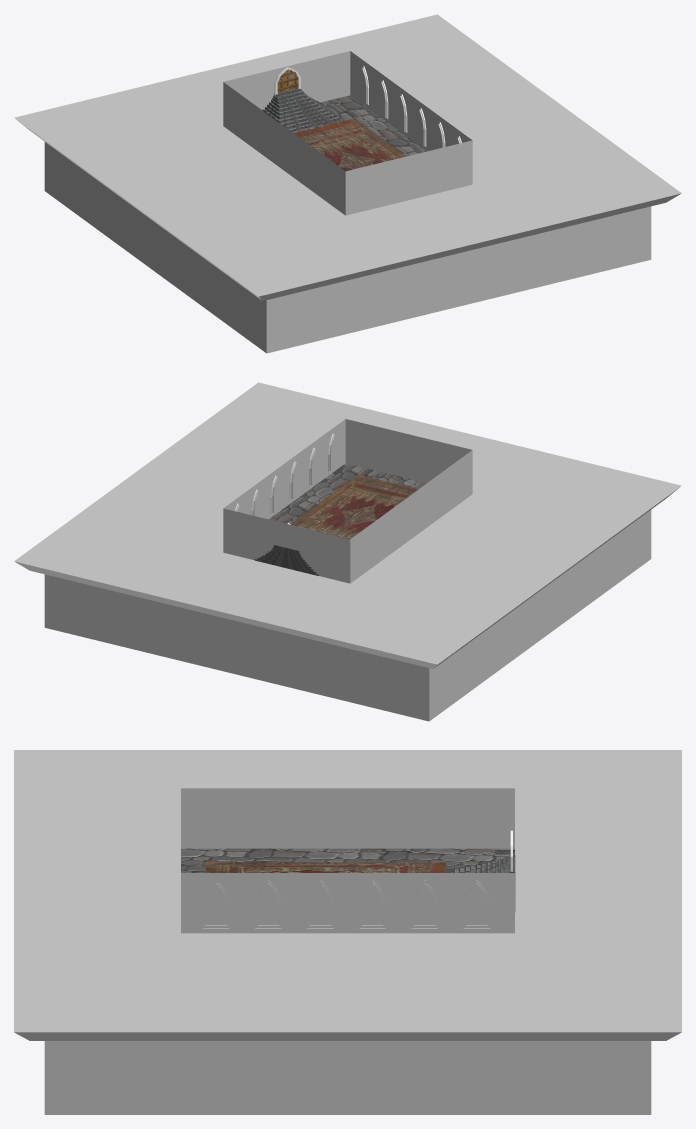
The model's file is Ballroom.fbx.
The picture shows the model from 3 angles, top to bottom: view 1: azimuth 30°, elevation 25°; view 2: azimuth 150°, elevation 25°; view 3: azimuth 270°, elevation 25°; orthographic projection. The views are drawn at different scales.
Visible parts, largest first — view 1: Table, Room, Carpet, Stairs, Door; view 2: Table, Room, Carpet, Stairs; view 3: Table, Room, Carpet, Stairs.
Part boxes in pixels (x1,y1,x2,y2): Table: (14, 14, 681, 353); Room: (223, 51, 472, 215); Carpet: (294, 118, 406, 171); Stairs: (262, 88, 341, 131); Door: (274, 67, 300, 96); Table: (14, 382, 681, 721); Room: (223, 419, 472, 583); Carpet: (290, 474, 418, 539); Stairs: (254, 545, 318, 575); Table: (14, 750, 681, 1114); Room: (181, 788, 514, 933); Carpet: (205, 862, 445, 872); Stairs: (453, 855, 515, 912).
Bounding box in the file's own units: 8000 × 2063 × 8000.
